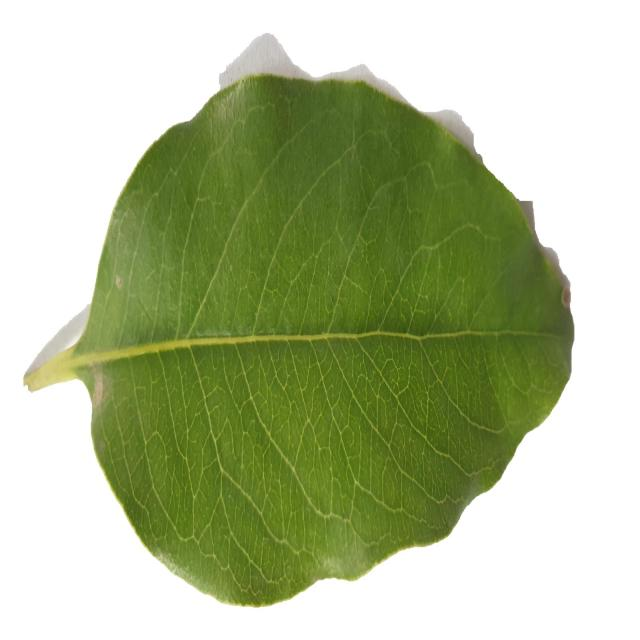Medicinal-Sandalwood: (23, 74, 574, 608)
